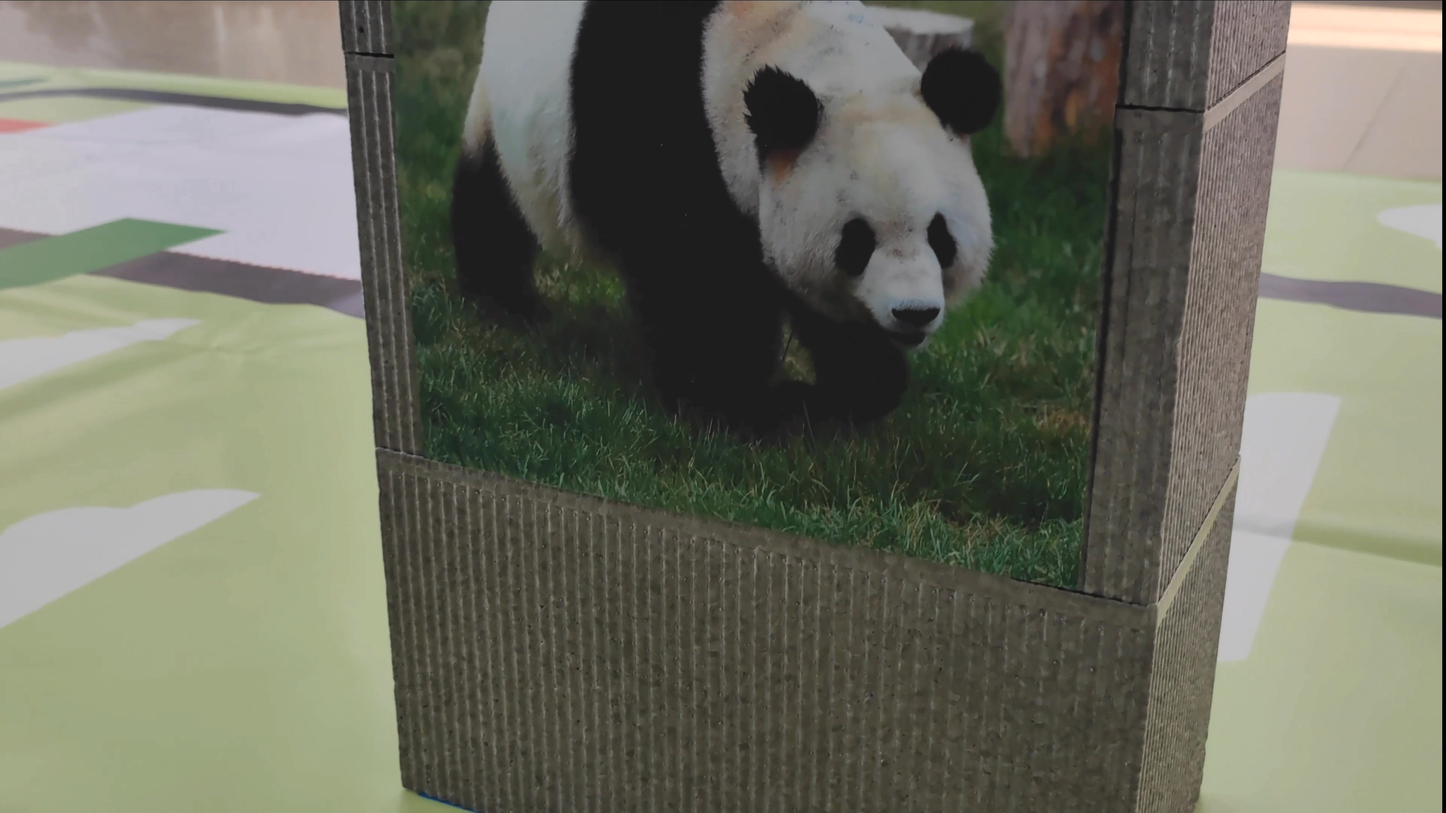panda: (412, 4, 1004, 411)
